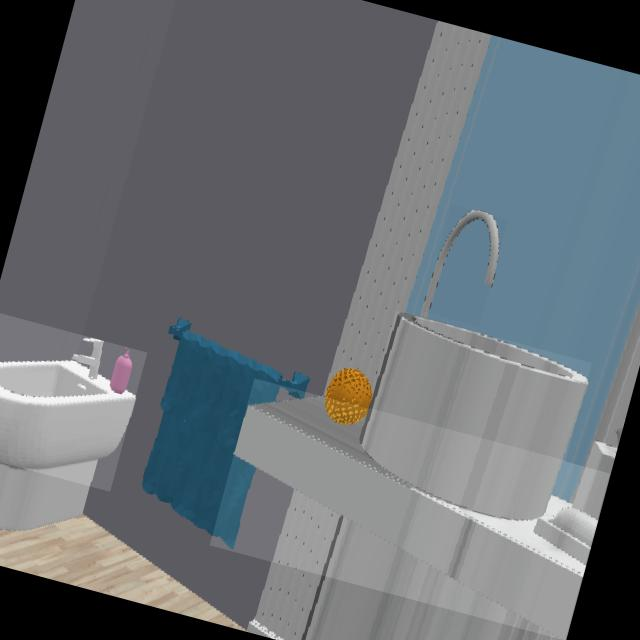shelf: (235, 397, 585, 640)
washbasin: (361, 316, 586, 519), (0, 339, 135, 470), (423, 212, 497, 312)
